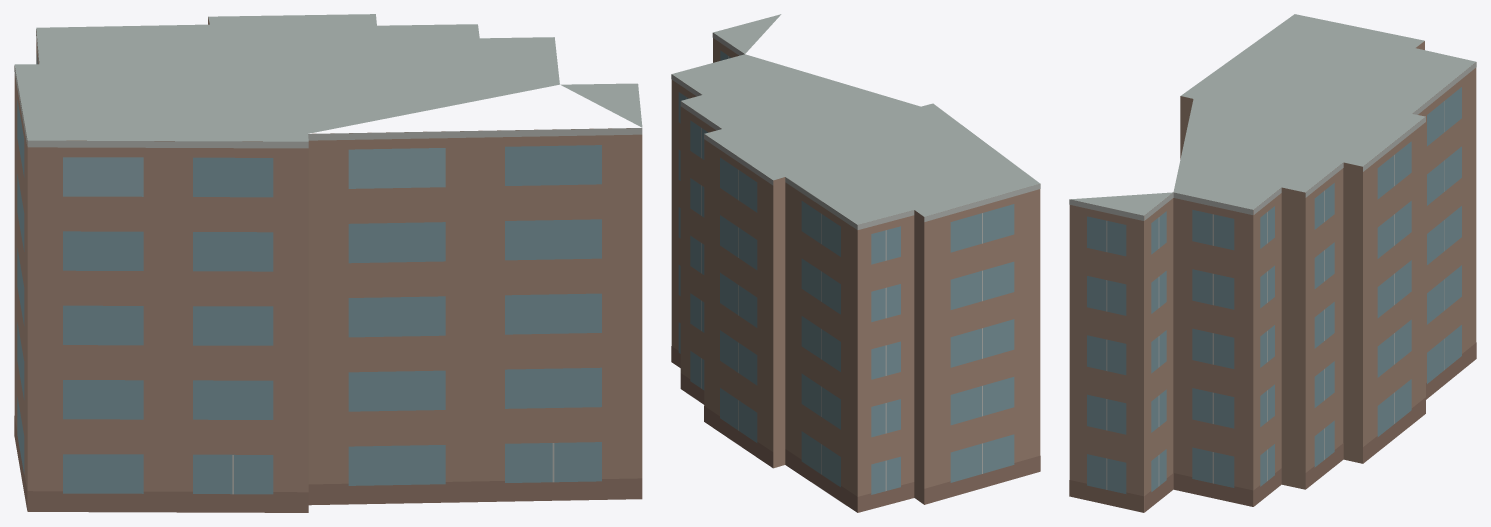
Rendered from survey-upis-32934441.glb.
The picture shows the model from 3 angles, left to right: view 1: azimuth 30°, elevation 25°; view 2: azimuth 150°, elevation 25°; view 3: azimuth 270°, elevation 25°; orthographic projection. The views are drawn at different scales.
Parts seen in each view (by area): view 1: survey-upis-32934441.tmp; view 2: survey-upis-32934441.tmp; view 3: survey-upis-32934441.tmp.
Boxes of the visible parts, bbox=[...] form: survey-upis-32934441.tmp: bbox=[14, 14, 642, 512]; survey-upis-32934441.tmp: bbox=[671, 14, 1040, 512]; survey-upis-32934441.tmp: bbox=[1069, 14, 1476, 512].
Size of the model in its own units: 19.37 by 13.3 by 16.51.
